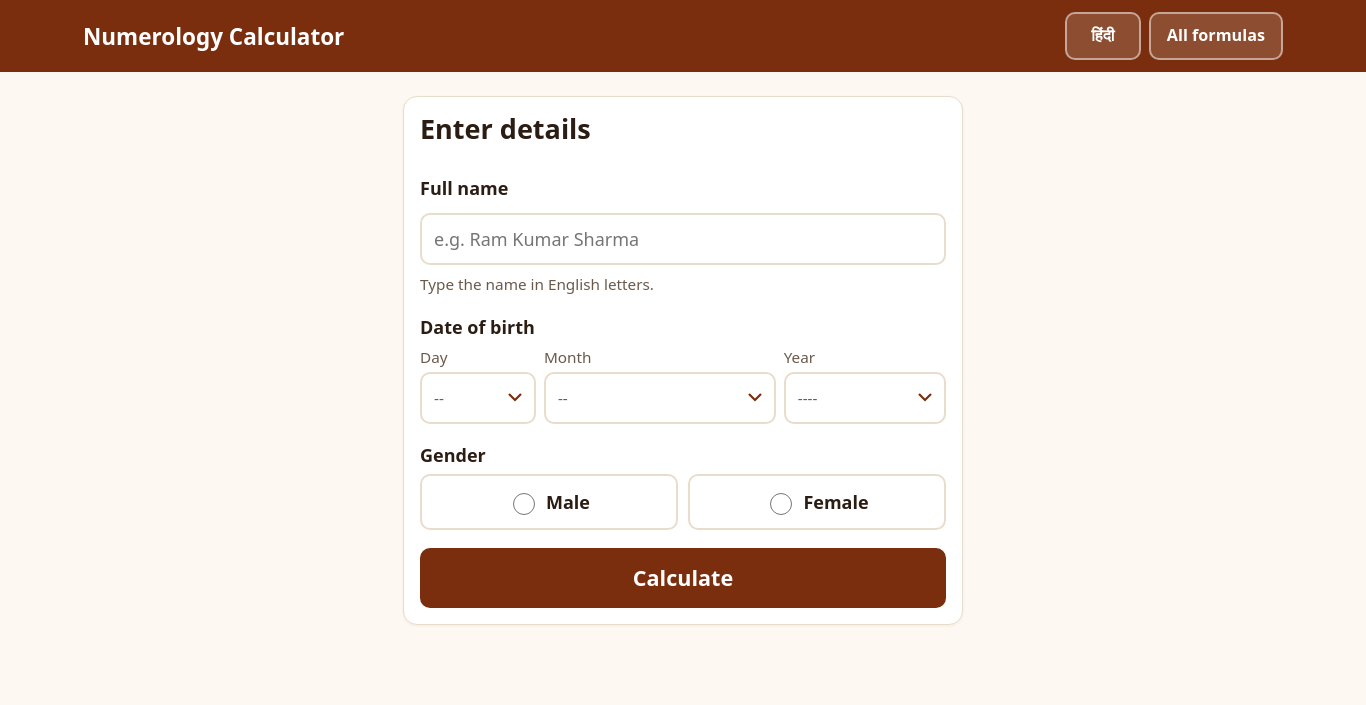
Test: results › uses the female Kua formula
Type "Ram Kumar" into the field labelled "Full name" at (683, 240), box [420, 214, 946, 266]
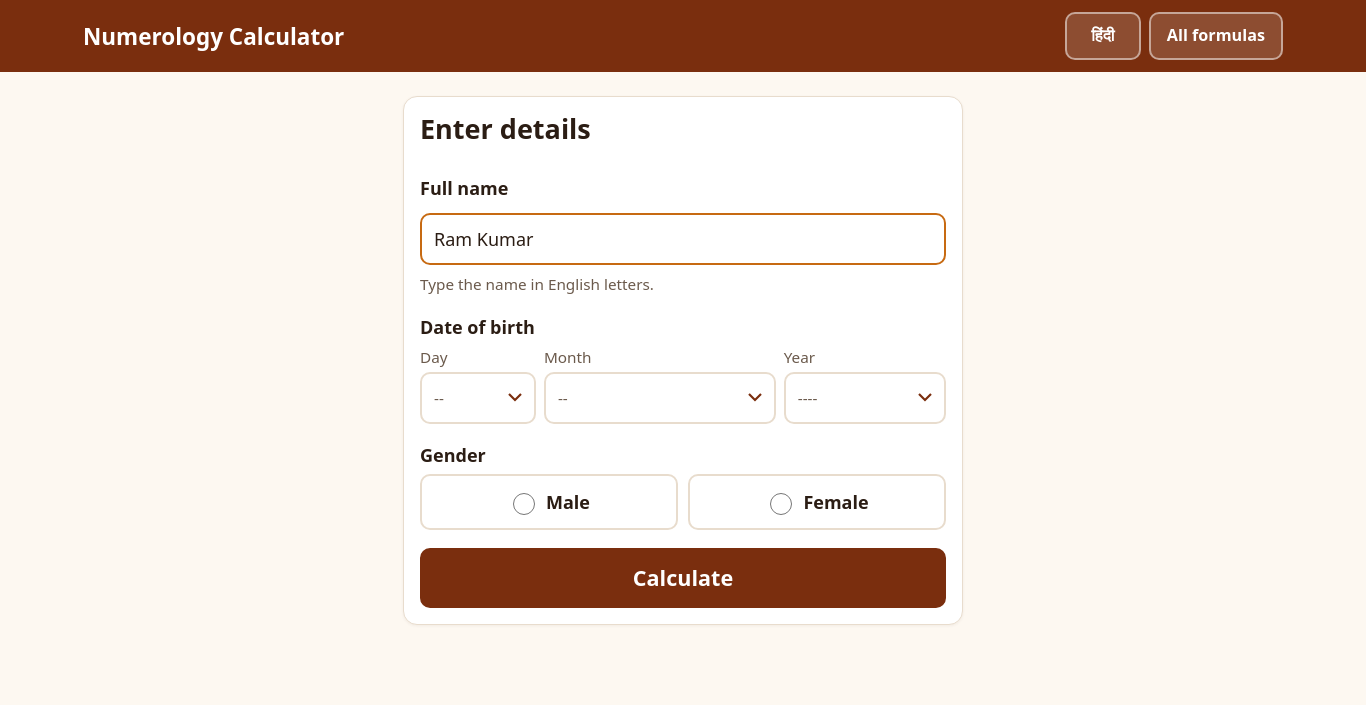
Select "29" in the dropdown labelled "Day" at (478, 398), box [420, 372, 536, 424]
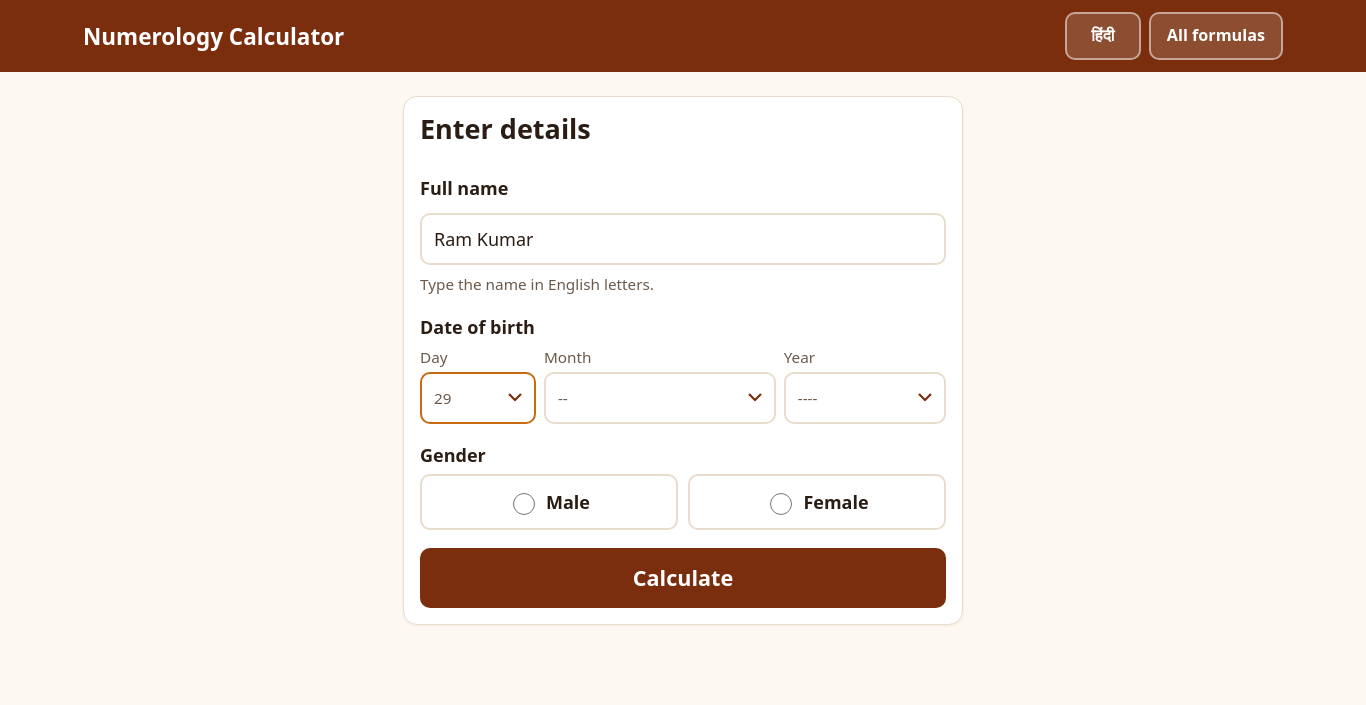
Select "8 – August" in the dropdown labelled "Month" at (660, 398), box [544, 372, 776, 424]
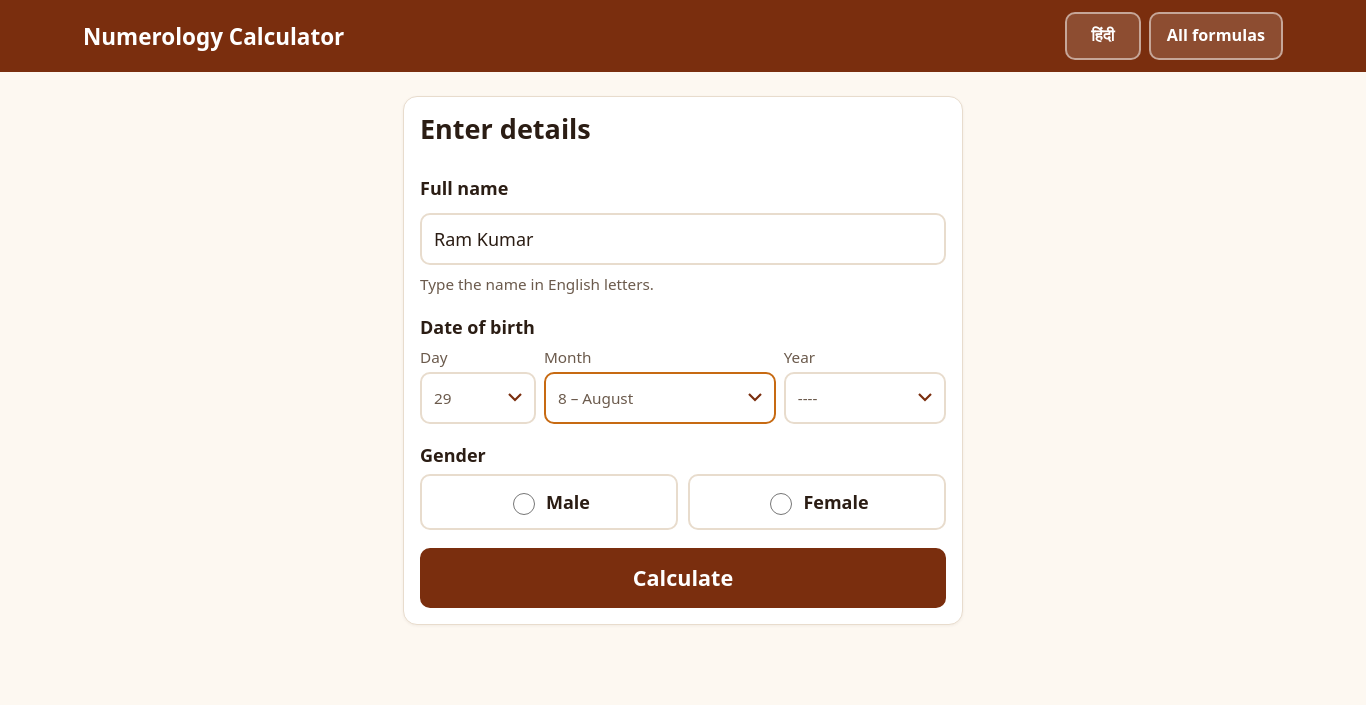
Select "1985" in the dropdown labelled "Year" at (865, 398), box [784, 372, 946, 424]
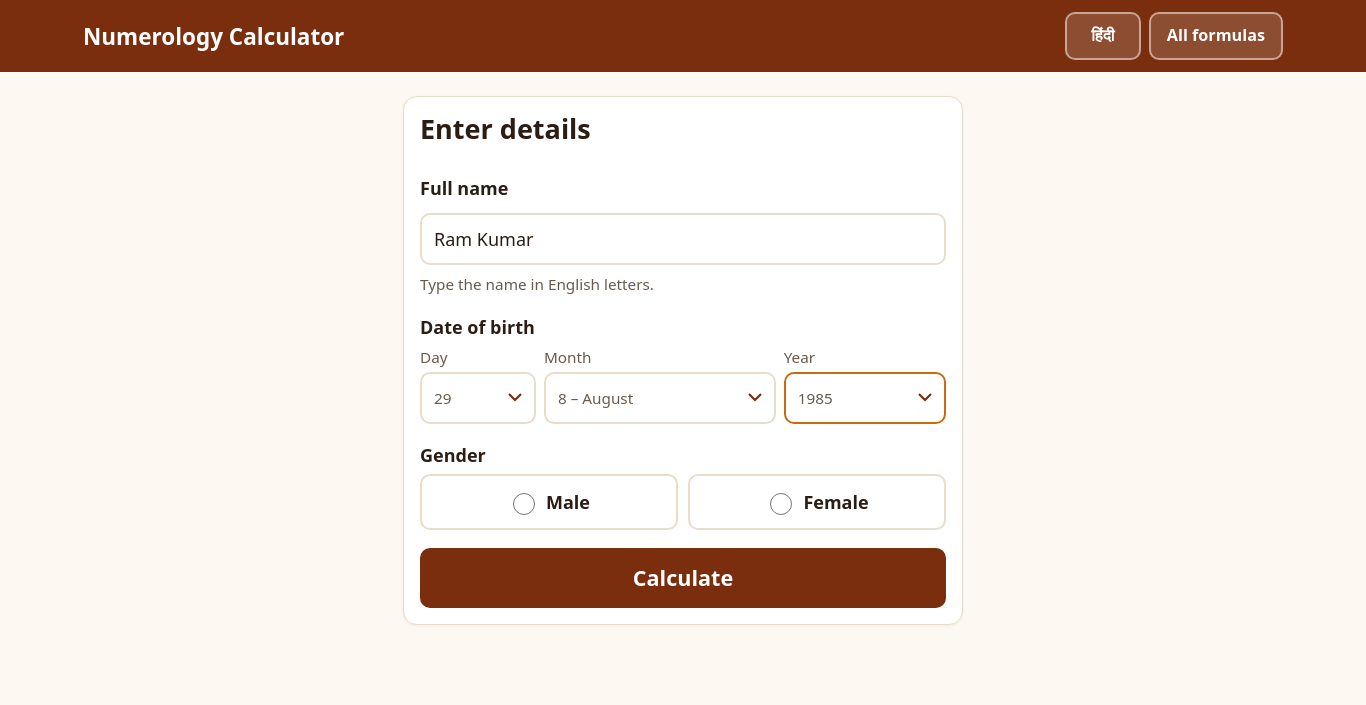
Click the radio button labelled "Female" at (781, 504), box [770, 492, 792, 514]
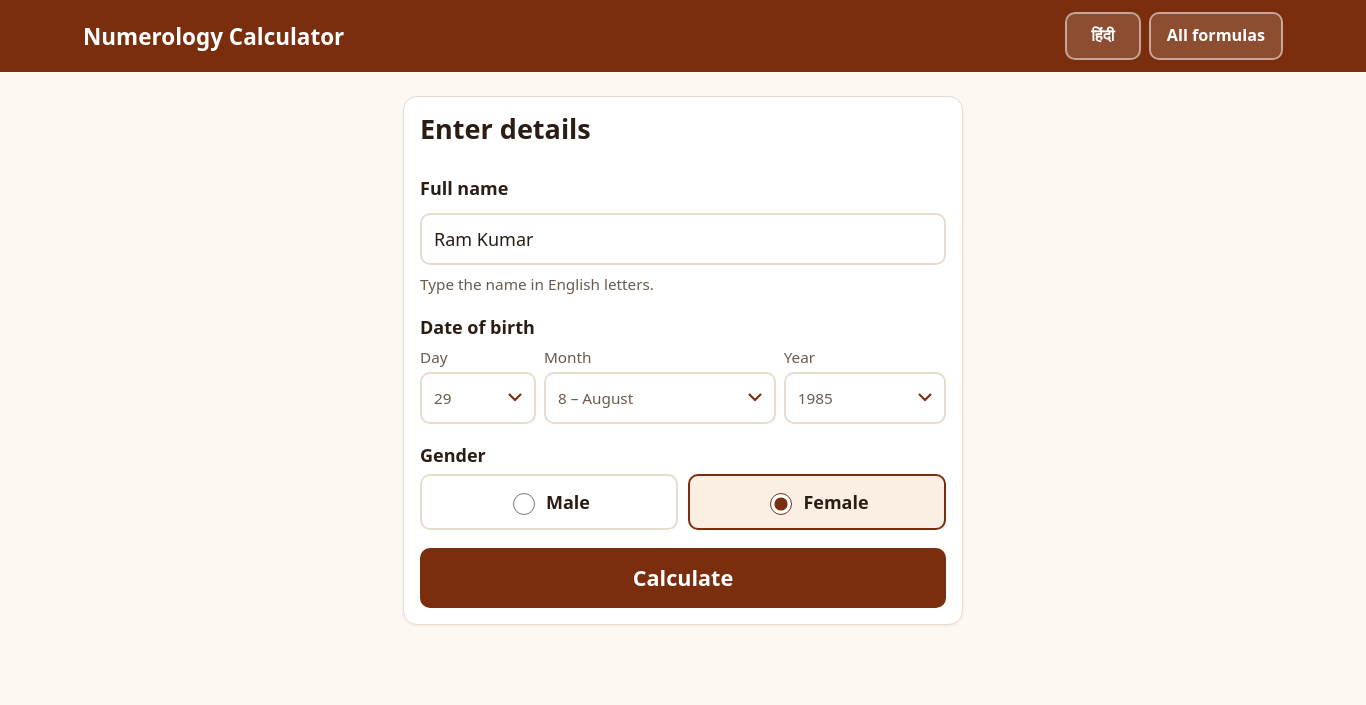
Click the button "Calculate" at (683, 578), box [420, 548, 946, 608]
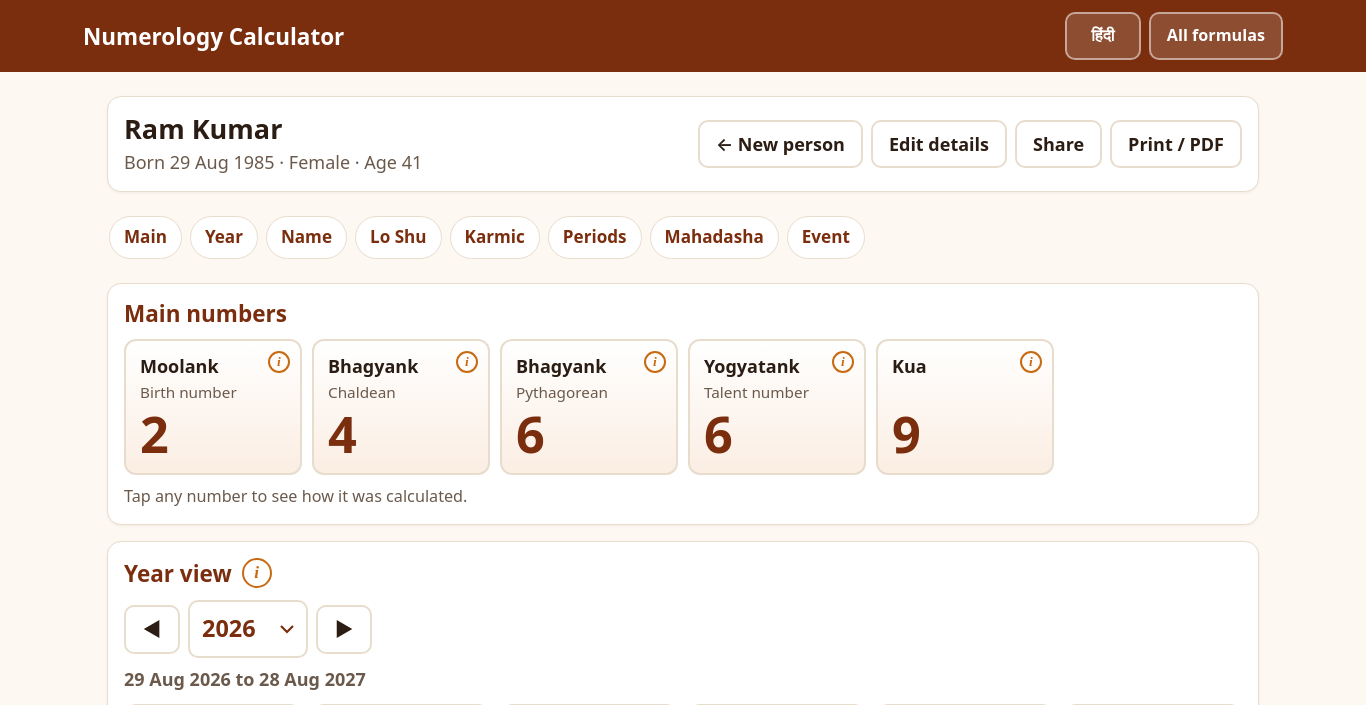
expect the button with aria-label "Kua: 9." is shown: met, box [876, 339, 1054, 475]
